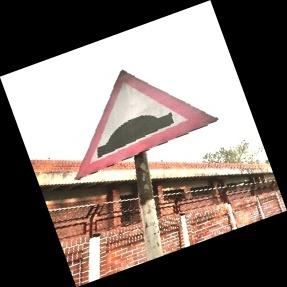Speed-breaker: (75, 69, 218, 179)
